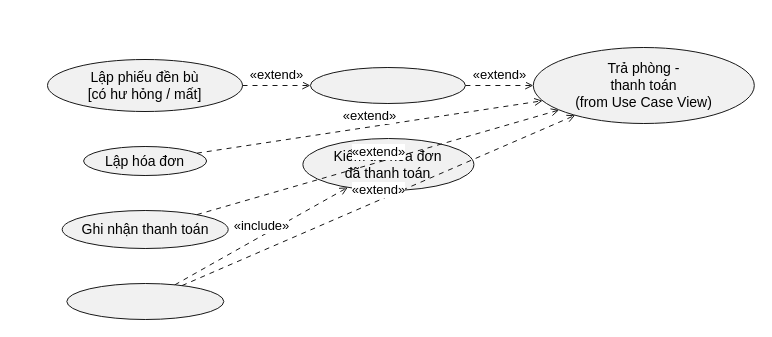
The diagram is 772 pixels wide and 337 high, and some of its shapes have lost their labels. The centre of each missing label's shape, as x and y in pixels:
"Hoàn tất trả phòng" goes at pixel 145 301.
"Kiểm tra tiện nghi" goes at pixel 387 85.
